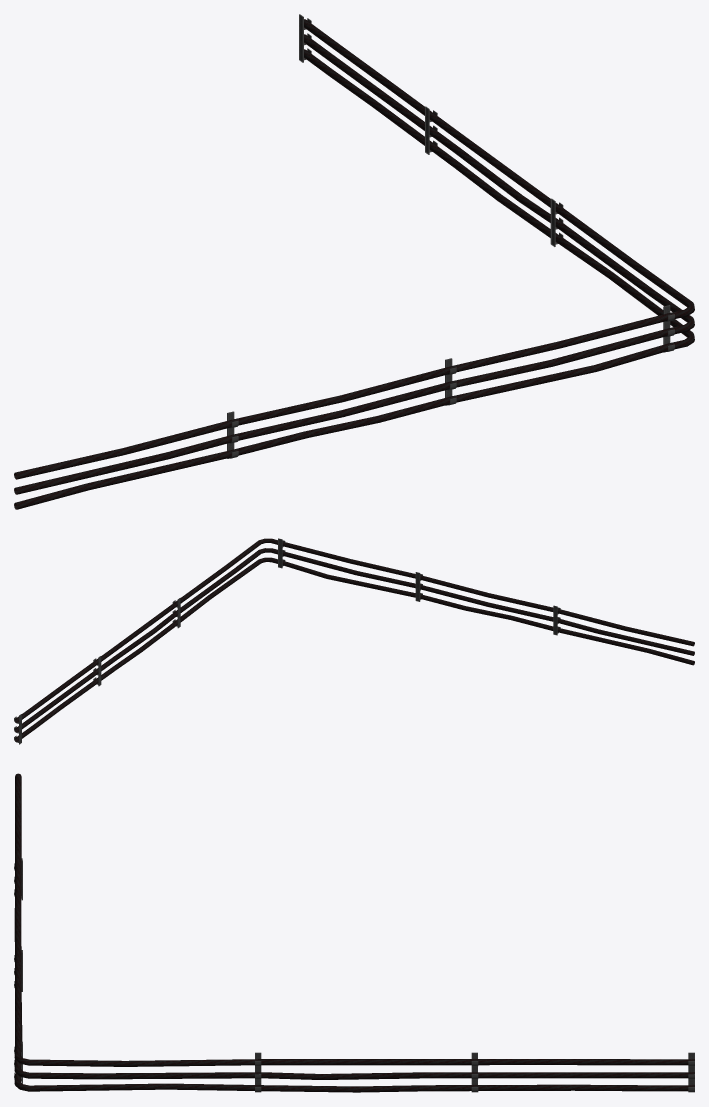
File: Cables_corner_outside.fbx
3 views of the same model, one above another, from view 1: azimuth 30°, elevation 25°; view 2: azimuth 150°, elevation 25°; view 3: azimuth 270°, elevation 25° (orthographic). The views are drawn at different scales.
Parts seen in each view (by area): view 1: Cables_corner_outside; view 2: Cables_corner_outside; view 3: Cables_corner_outside.
Boxes of the visible parts, x1,y1,x2,y2 form: Cables_corner_outside: (14,14,694,509); Cables_corner_outside: (14,538,694,744); Cables_corner_outside: (14,773,694,1092).
Size of the model in its own units: 314 by 20.52 by 314.
